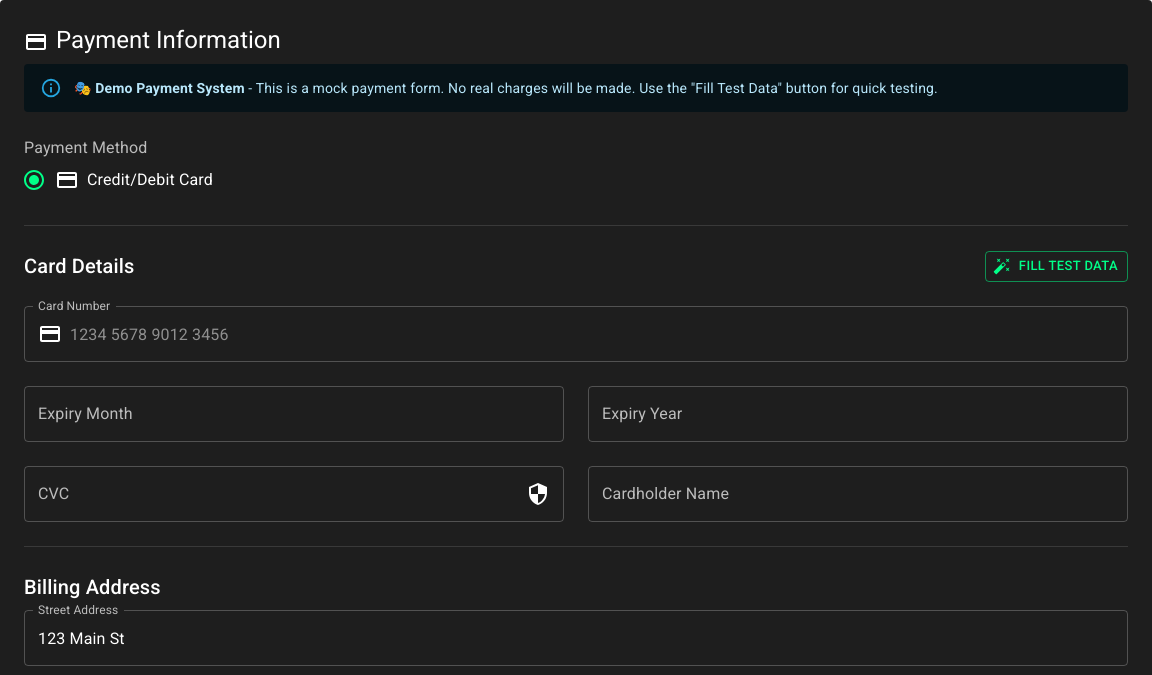
Test: MockPaymentForm Component › formats card number with spaces
Type "4242424242424242" into the field labelled "Card Number".
click(599, 334); type("4242424242424242")  # box [70, 306, 1128, 362]
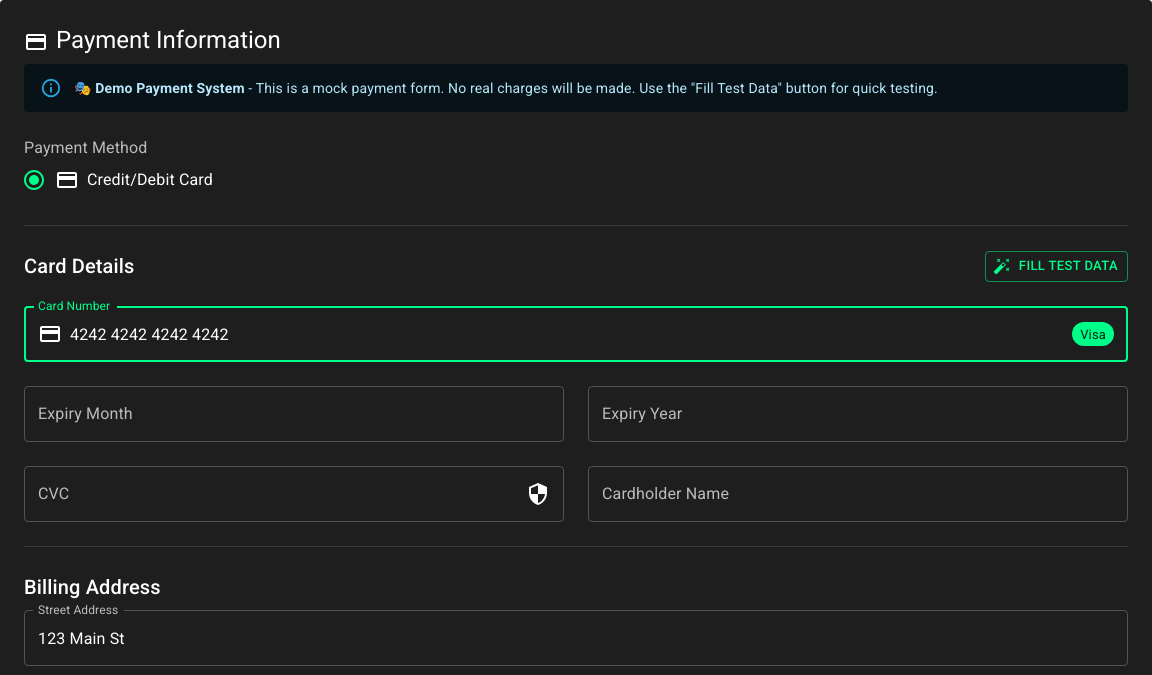
Expected: the field labelled "Card Number" holds "4242 4242 4242 4242", [70, 306, 1064, 362]
